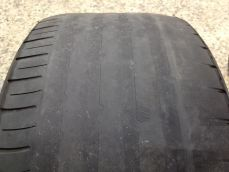bad_condition: (1, 11, 229, 172)
